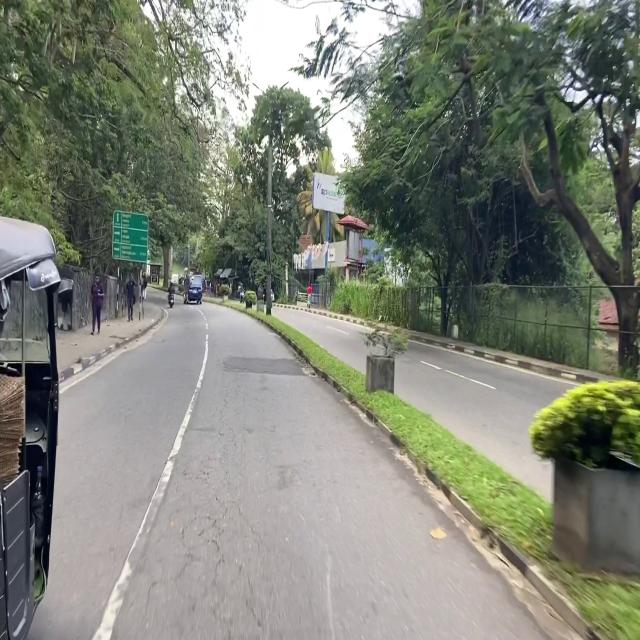motorcycle: (168, 295, 174, 308)
person: (91, 275, 104, 334), (125, 274, 135, 321), (307, 283, 312, 308), (168, 283, 174, 297)
three wheeler: (0, 216, 72, 639)
van: (183, 272, 202, 304)
